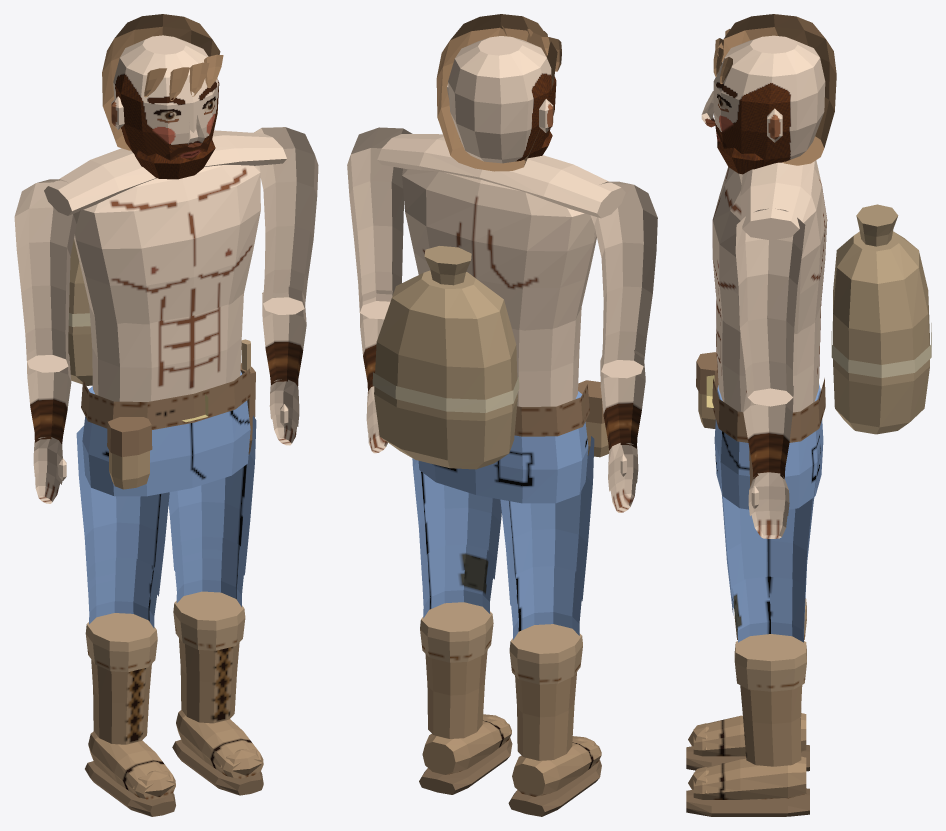
File: villager_male.glb
The picture shows the model from 3 angles, left to right: view 1: azimuth 30°, elevation 25°; view 2: azimuth 150°, elevation 25°; view 3: azimuth 270°, elevation 25°; orthographic projection. The views are drawn at different scales.
Parts seen in each view (by area): view 1: Chest, Belly, Head, Arm.R, Hips, Arm.L, Leg.R, Traps, Leg.L, Belt, Leg.R.Lower.Shaft, Leg.L.Lower.Shaft (+20 smaller); view 2: Load, Chest, Head, Arm.R, Arm.L, Hips, Traps, Leg.R, Leg.L, Belly, Head.Hair, Leg.L.Lower.Shaft (+18 smaller); view 3: Load, Head, Arm.L, Chest, Leg.L, Traps, Hips, Belly, Leg.L.Lower.Shaft, Leg.L.Lower.Shin, Head.Hair, Leg.L.Lower.Boot (+12 smaller).
Boxes of the visible parts, x1=… form: Chest: x1=74, y1=165, x2=260, y2=324; Belly: x1=89, y1=293, x2=243, y2=401; Head: x1=113, y1=35, x2=219, y2=160; Arm.R: x1=14, y1=179, x2=80, y2=372; Hips: x1=82, y1=371, x2=250, y2=496; Arm.L: x1=254, y1=127, x2=318, y2=314; Leg.R: x1=76, y1=426, x2=169, y2=596; Traps: x1=44, y1=130, x2=286, y2=215; Leg.L: x1=168, y1=415, x2=256, y2=575; Belt: x1=81, y1=368, x2=251, y2=429; Leg.R.Lower.Shaft: x1=91, y1=659, x2=151, y2=744; Leg.L.Lower.Shaft: x1=179, y1=638, x2=239, y2=723; Load: x1=374, y1=270, x2=517, y2=469; Chest: x1=402, y1=168, x2=596, y2=330; Head: x1=448, y1=36, x2=556, y2=163; Arm.R: x1=590, y1=181, x2=657, y2=378; Arm.L: x1=347, y1=127, x2=412, y2=319; Hips: x1=418, y1=391, x2=588, y2=503; Traps: x1=377, y1=134, x2=625, y2=218; Leg.R: x1=500, y1=436, x2=594, y2=605; Leg.L: x1=412, y1=458, x2=501, y2=580; Belly: x1=512, y1=307, x2=581, y2=406; Head.Hair: x1=436, y1=14, x2=557, y2=171; Leg.L.Lower.Shaft: x1=425, y1=650, x2=487, y2=738; Load: x1=833, y1=231, x2=929, y2=434; Head: x1=713, y1=35, x2=825, y2=163; Arm.L: x1=735, y1=208, x2=805, y2=406; Chest: x1=712, y1=160, x2=827, y2=334; Leg.L: x1=719, y1=445, x2=819, y2=615; Traps: x1=740, y1=161, x2=814, y2=240; Hips: x1=714, y1=384, x2=823, y2=509; Belly: x1=716, y1=300, x2=821, y2=412; Leg.L.Lower.Shaft: x1=740, y1=685, x2=802, y2=766; Leg.L.Lower.Shin: x1=732, y1=576, x2=805, y2=642; Head.Hair: x1=717, y1=14, x2=836, y2=165; Leg.L.Lower.Boot: x1=693, y1=756, x2=806, y2=799.
Size of the model in its own units: 0.732 by 1.76 by 0.5135.
12 materials, 7 textured.
